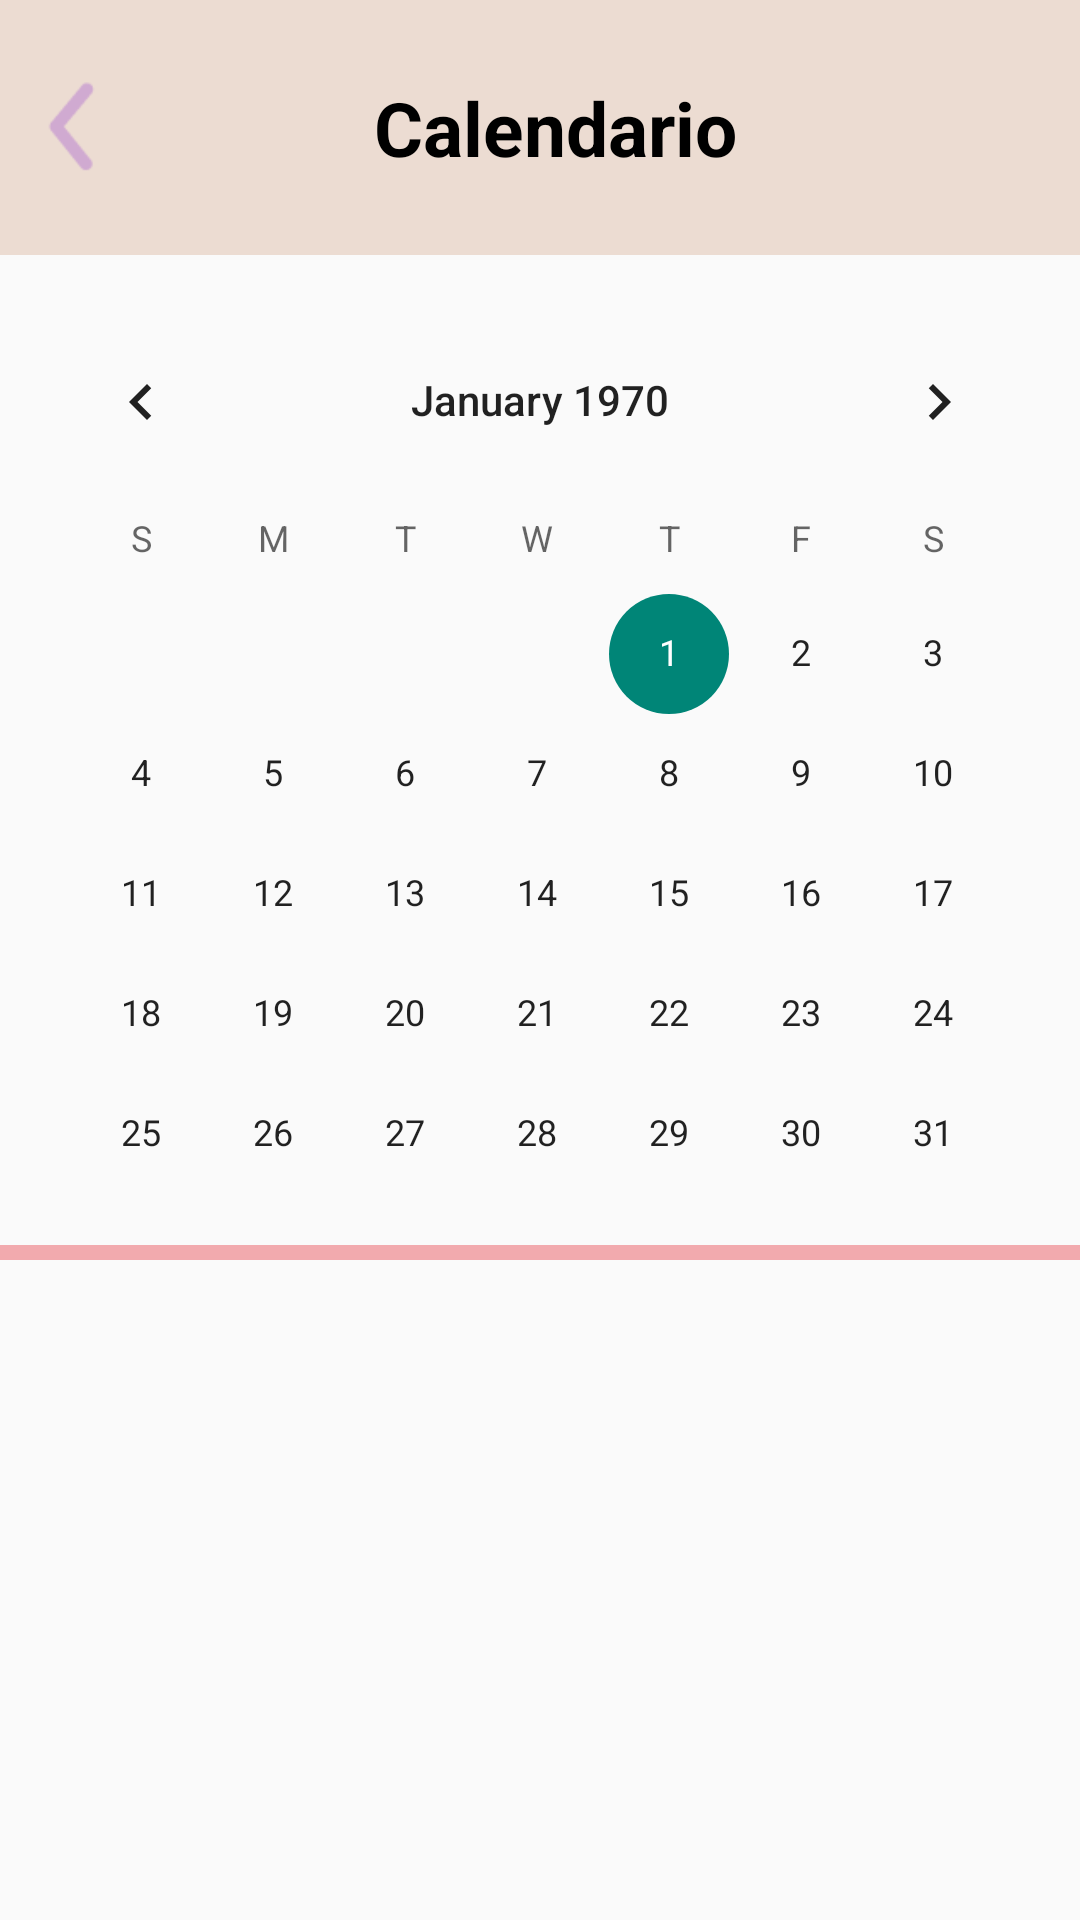

Icon bounding boxes for this 1080×1920 phone screenshot, format (x1, y1, x2, y2):
back: (50, 83, 93, 170)
